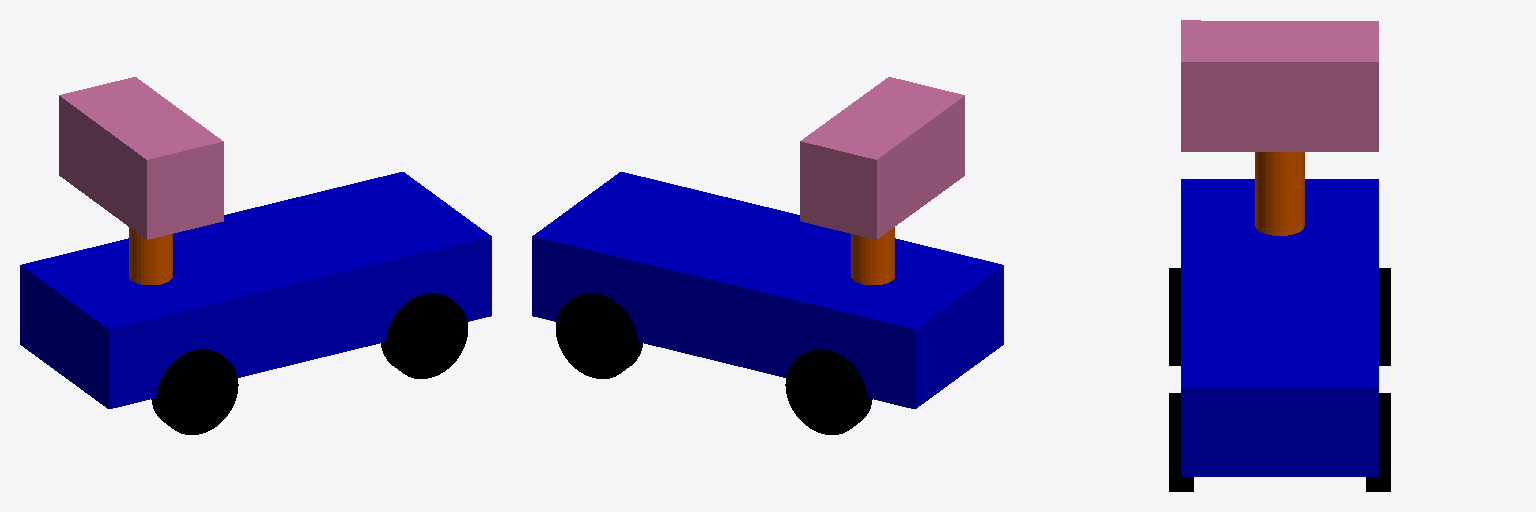
URDF robot description (azi_bot):
<robot name="azi_bot">
	<link name="box">
		<visual>
			<geometry>
				<box size = "1 0.4 0.2"/>
			</geometry>
			<origin xyz="0.5 0.2 0.1" rpy="0 0 0"/>
			<material name="blue">
				<color rgba="0 0 0.8 1"/>
			</material>
		</visual>
	</link>

	<link name="wheel_1">
		<visual>
			<geometry>
				<cylinder length="0.05" radius="0.1"/>
			</geometry>
			<origin xyz="0.025 0 0.096" rpy="1.57 0 0"/>
			<material name="black">
				<color rgba="0 0 0 1"/>
			</material>
		</visual>
		
	</link>

	<link name="wheel_2">
		<visual>
			<geometry>
				<cylinder length="0.05" radius="0.1"/>
			</geometry>
			<origin xyz="0.025 0 0.096" rpy="1.57 0 0"/>
			<material name="black"/>
		</visual>
	</link>

	<link name="wheel_3">
		<visual>
			<geometry>
				<cylinder length="0.05" radius="0.1"/>
			</geometry>
			<origin xyz="0.025 0 0.096" rpy="1.57 0 0"/>
			<material name="black"/>		
		</visual>
	</link>

	<link name="wheel_4">
		<visual>
			<geometry>
				<cylinder length="0.05" radius="0.1"/>
			</geometry>
			<origin xyz="0.025 0 0.096" rpy="1.57 0 0"/>
			<material name="black"/>	
		</visual>
	</link>

	<link name="neck">
		<visual>
			<geometry>
				<cylinder length="0.2" radius="0.05"/>
			</geometry>
			<origin xyz="0.025 0 0.096" rpy="0 0 0"/>
		</visual>
	</link>

	<link name="camera">
		<visual>
			<geometry>
				<box size = "0.4 0.2 0.2"/>
			</geometry>
			<origin xyz="0 0 0.1" rpy="0 0 0"/>
		</visual>
	</link>

	<link name="gripper">
		<geometry>
			<box size = "0.4 0.2 0.2"/>
		</geometry>
		<origin xyz="0 0 0.1" rpy="0 0 0"/>
	</link>



<!-- joints -->
	<joint name="wh1_joint" type="continuous">
		<parent link="box"/>
		<child link="wheel_1"/>
		<origin xyz="0.2 0 -0.1" rpy="0 6.28 0"/>
		<axis xyz=" 0 1 0"/>
	</joint>

	<joint name="wh2_joint" type="continuous">
		<parent link="box"/>
		<child link="wheel_2"/>
		<origin xyz="0.8 0 -0.1" rpy="0 6.28 0"/>
		<axis xyz=" 0 1 0"/>
	</joint>

	<joint name="wh3_joint" type="continuous">
		<parent link="box"/>
		<child link="wheel_3"/>
		<origin xyz="0.2 0.4 -0.1" rpy="0 6.28 0"/>
		<axis xyz=" 0 1 0"/>
	</joint>

	<joint name="wh4_joint" type="continuous">
		<parent link="box"/>
		<child link="wheel_4"/>
		<origin xyz="0.8 0.4 -0.1" rpy="0 6.28 0"/>
		<axis xyz=" 0 1 0"/>
	</joint>

	<joint name="neck_joint" type="fixed">
		<parent link="box"/>
		<child link="neck"/>
		<origin xyz="0.2 0.2 0.2" rpy="0 0 0"/>
		<axis xyz=" 0 0 0"/>
	</joint>

	<joint name="camera_joint" type="continuous">
		<parent link="neck"/>
		<child link="camera"/>
		<origin xyz="0 0 0.2" rpy="0 0 4.71"/>
		<axis xyz=" 0 0 1"/>
	</joint>

	<joint name="gripper_joint" type="continuous">
		<parent link="box"/>
		<child link="gripper"/>
		<origin xyz="0.8 0.2 0.2" rpy="0 0 0"/>
	</joint>

</robot>
<!-- 1 0.4 0.2 -->

--- Facts derived from the render (not from the file) ---
3 views of the same robot in one strip: view 1: azimuth 30°, elevation 25°; view 2: azimuth 150°, elevation 25°; view 3: azimuth 270°, elevation 25° (orthographic).
Model azi_bot with 8 links and 7 joints (6 continuous, 1 fixed), rooted at box, posed all joints at 0.
Links seen in each view (by area): view 1: box, camera, wheel_2, wheel_1, neck; view 2: box, camera, wheel_4, wheel_3, neck; view 3: box, camera, neck, wheel_2, wheel_4, wheel_1, wheel_3.
Boxes of the visible links, x1,y1,x2,y2 form: box: [20, 172, 491, 408]; camera: [59, 77, 223, 239]; wheel_2: [381, 293, 467, 378]; wheel_1: [151, 349, 238, 434]; neck: [129, 227, 172, 284]; box: [532, 172, 1003, 408]; camera: [800, 77, 964, 239]; wheel_4: [556, 293, 642, 378]; wheel_3: [785, 349, 872, 434]; neck: [851, 227, 894, 284]; box: [1181, 179, 1378, 476]; camera: [1181, 20, 1378, 151]; neck: [1255, 152, 1304, 235]; wheel_2: [1169, 393, 1193, 491]; wheel_4: [1366, 393, 1390, 491]; wheel_1: [1169, 268, 1180, 365]; wheel_3: [1379, 268, 1390, 365].
Size in the robot's own frame: 1 by 0.4502 by 0.7039 metres.
Geometry: primitives only (box / cylinder / sphere), no mesh files.
